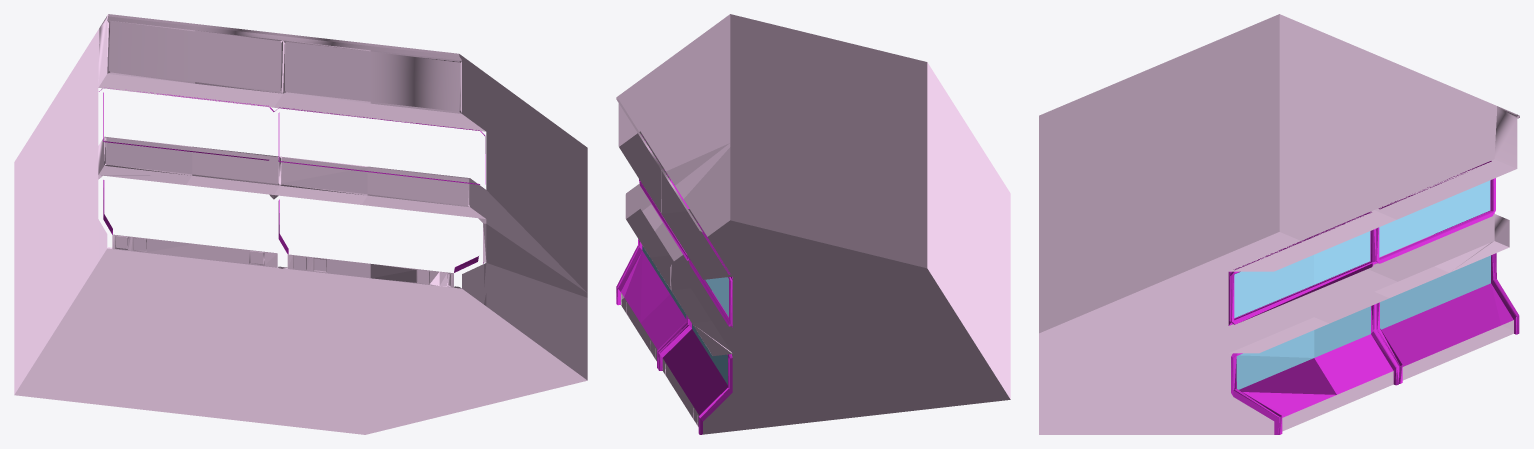
Rendered from uee_stanton_kit_ext_icnr_8x8x8_45d_09m_reg.glb.
3 views of the same model, side by side, from view 1: azimuth 30°, elevation 25°; view 2: azimuth 150°, elevation 25°; view 3: azimuth 270°, elevation 25° (orthographic). The views are drawn at different scales.
Size of the model in its own units: 16 by 8 by 16.
